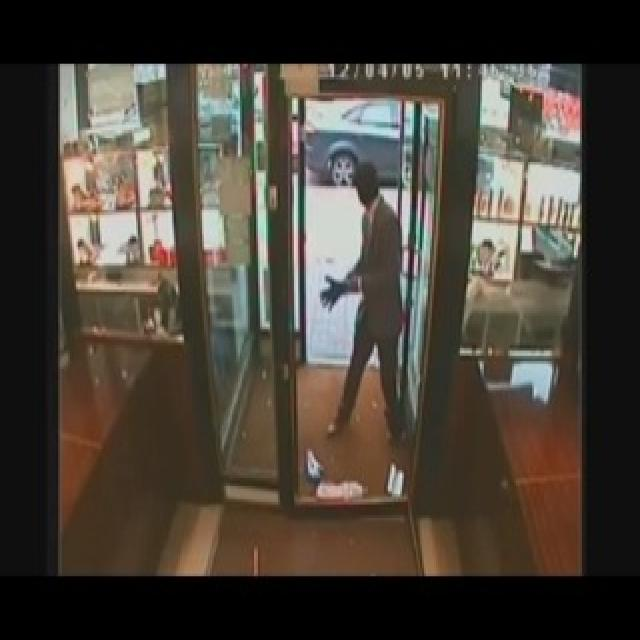thief: (324, 164, 411, 435)
